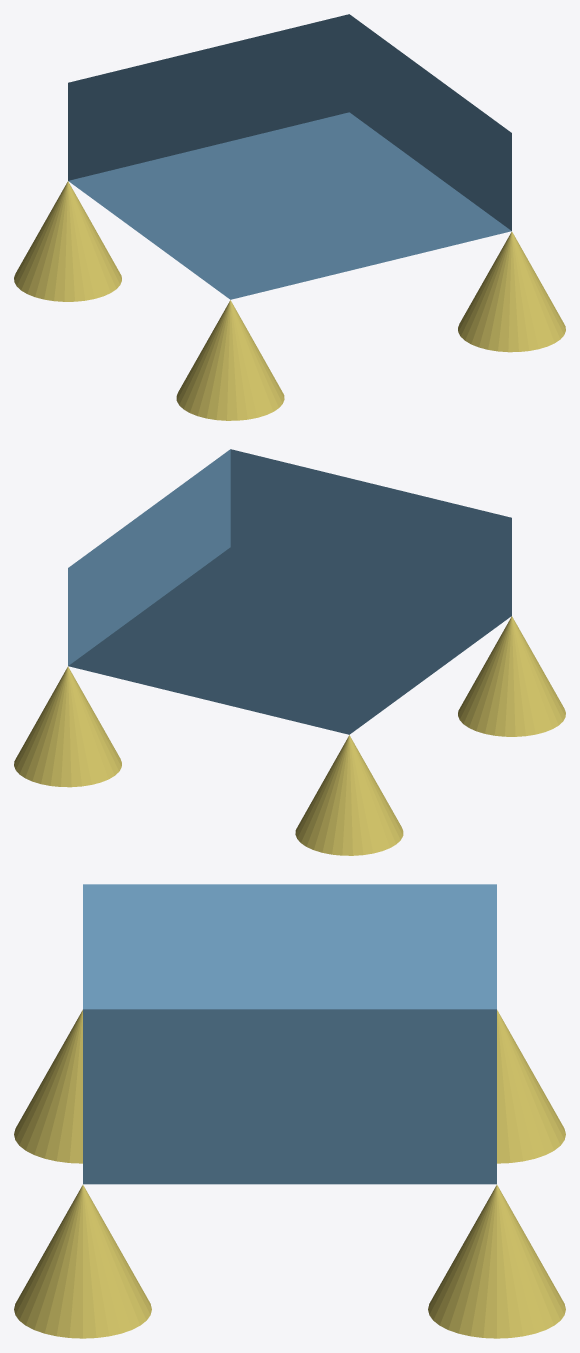
Rendered from model_kinds_component.glb.
The picture shows the model from 3 angles, top to bottom: view 1: azimuth 30°, elevation 25°; view 2: azimuth 150°, elevation 25°; view 3: azimuth 270°, elevation 25°; orthographic projection. The views are drawn at different scales.
Parts seen in each view (by area): view 1: Body, PointB, PointA, PointD; view 2: Body, PointA, PointB, PointC; view 3: Body, PointC, PointD, PointA, PointB.
Boxes of the visible parts, left/top/right/bottom form: Body: left=68, top=14, right=511, bottom=299; PointB: left=176, top=300, right=284, bottom=420; PointA: left=14, top=181, right=121, bottom=301; PointD: left=458, top=231, right=565, bottom=352; Body: left=68, top=449, right=511, bottom=734; PointA: left=295, top=735, right=403, bottom=855; PointB: left=458, top=616, right=565, bottom=736; PointC: left=14, top=666, right=121, bottom=787; Body: left=83, top=884, right=496, bottom=1184; PointC: left=428, top=1185, right=565, bottom=1338; PointD: left=14, top=1185, right=151, bottom=1338; PointA: left=497, top=1010, right=565, bottom=1163; PointB: left=14, top=1010, right=82, bottom=1163.
Bounding box in the file's own units: 8 × 4 × 8.
